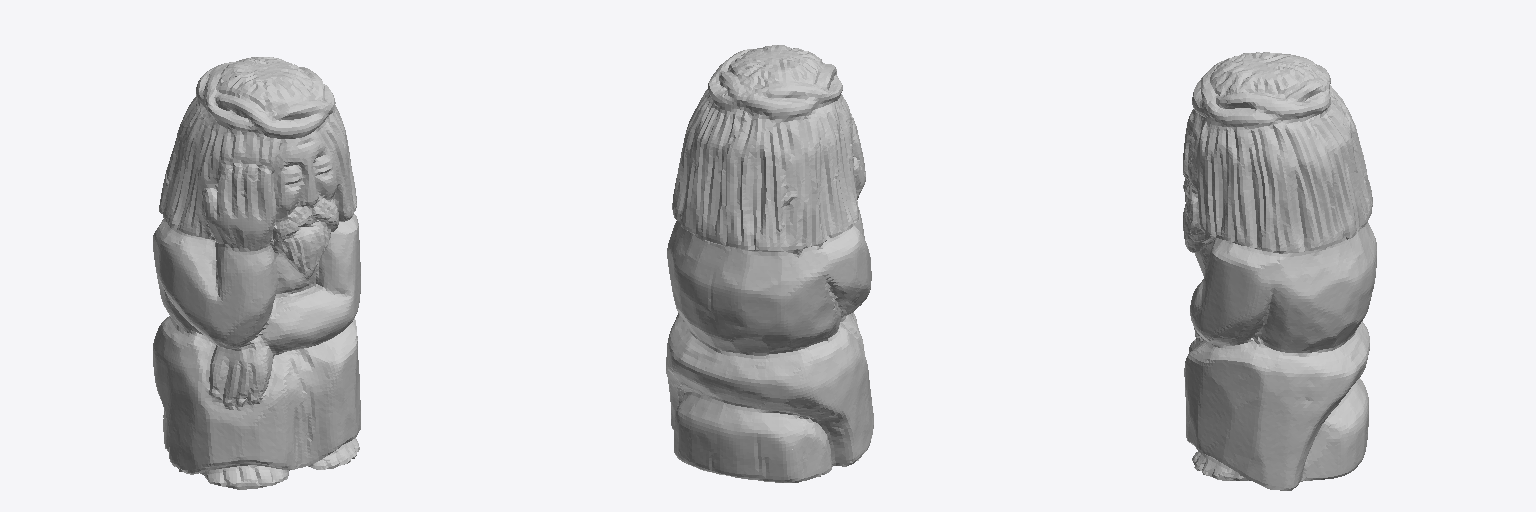
Rendered from Hojda15.obj.
3 views of the same model, side by side, from view 1: azimuth 30°, elevation 25°; view 2: azimuth 150°, elevation 25°; view 3: azimuth 270°, elevation 25° (orthographic).
Parts seen in each view (by area): view 1: Hojda15_lowpoly; view 2: Hojda15_lowpoly; view 3: Hojda15_lowpoly.
Part boxes in pixels (x1,y1,x2,y2): Hojda15_lowpoly: (153,57,360,489); Hojda15_lowpoly: (666,45,873,482); Hojda15_lowpoly: (1183,52,1376,490).
Size of the model in its own units: 0.0594 by 0.1182 by 0.0541.